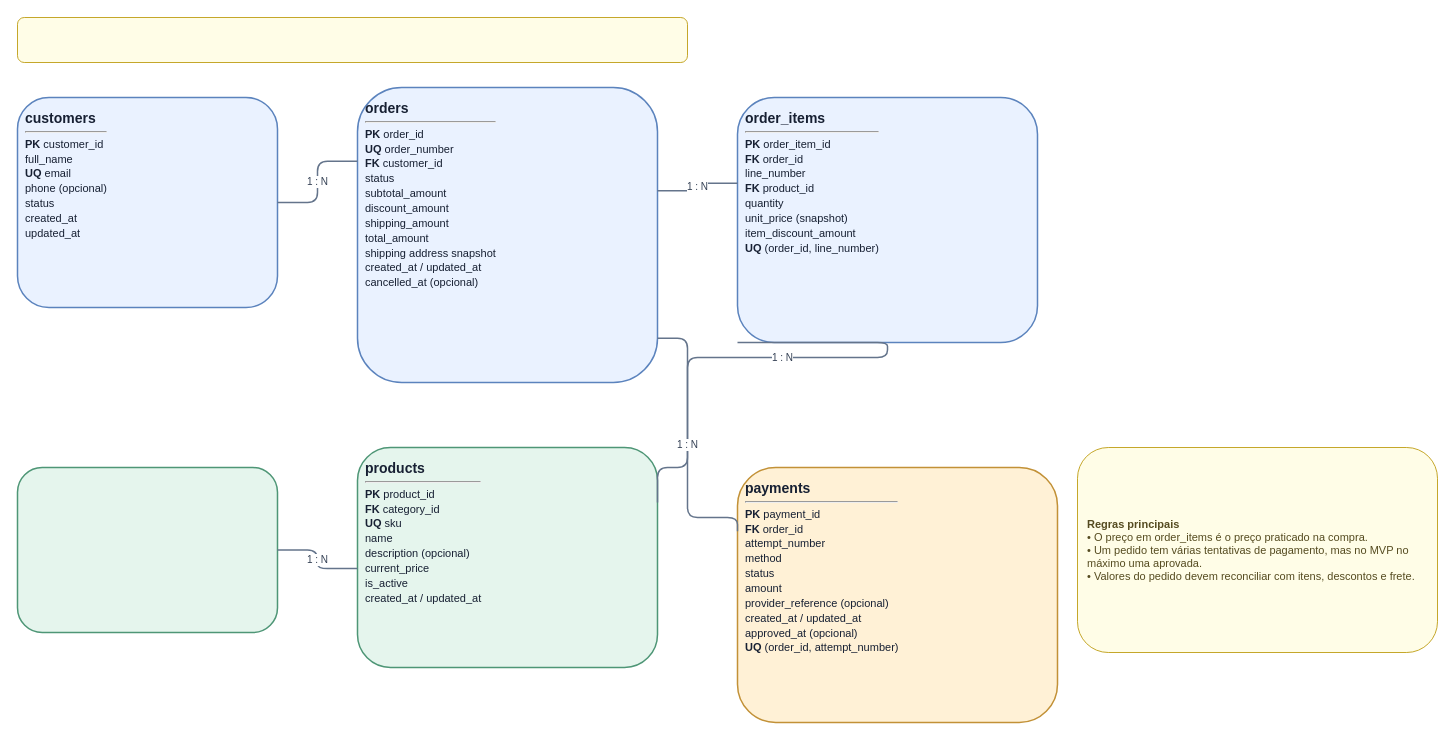
This 1456x741 diagram has some shape labels left out. The shapes that lost their labels are listed below. From the top down, each one's centre as x and y in pixels, then its label:
(x=352, y=39): RetailPulse — Modelo lógico 1. Núcleo comercial PostgreSQL
(x=147, y=549): categories PK category_id UQ name description (opcional) is_active created_at
